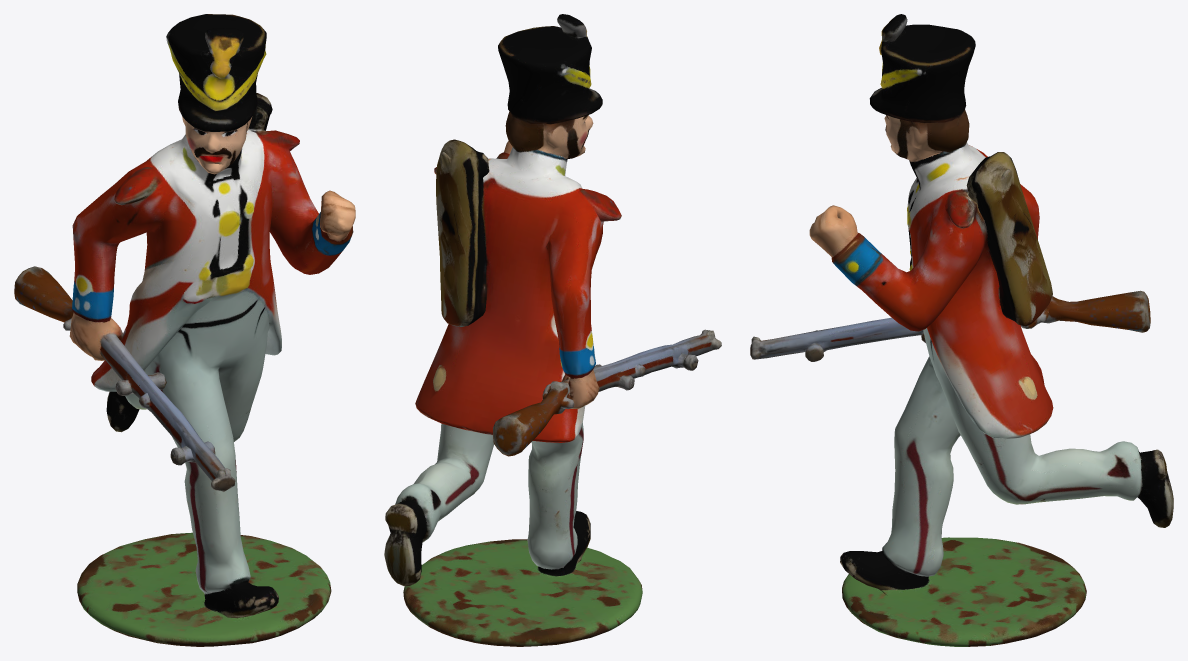
File: inf_flee.glb
3 views of the same model, side by side, from view 1: azimuth 30°, elevation 25°; view 2: azimuth 150°, elevation 25°; view 3: azimuth 270°, elevation 25° (orthographic). The views are drawn at different scales.
Visible parts, largest first — view 1: world; view 2: world; view 3: world.
Part boxes in pixels (x1=…): world: x1=14, y1=14, x2=355, y2=646; world: x1=384, y1=14, x2=721, y2=646; world: x1=750, y1=14, x2=1173, y2=646.
Bounding box in the file's own units: 0.3856 × 0.9981 × 0.6692.
1 material, 1 textured.
